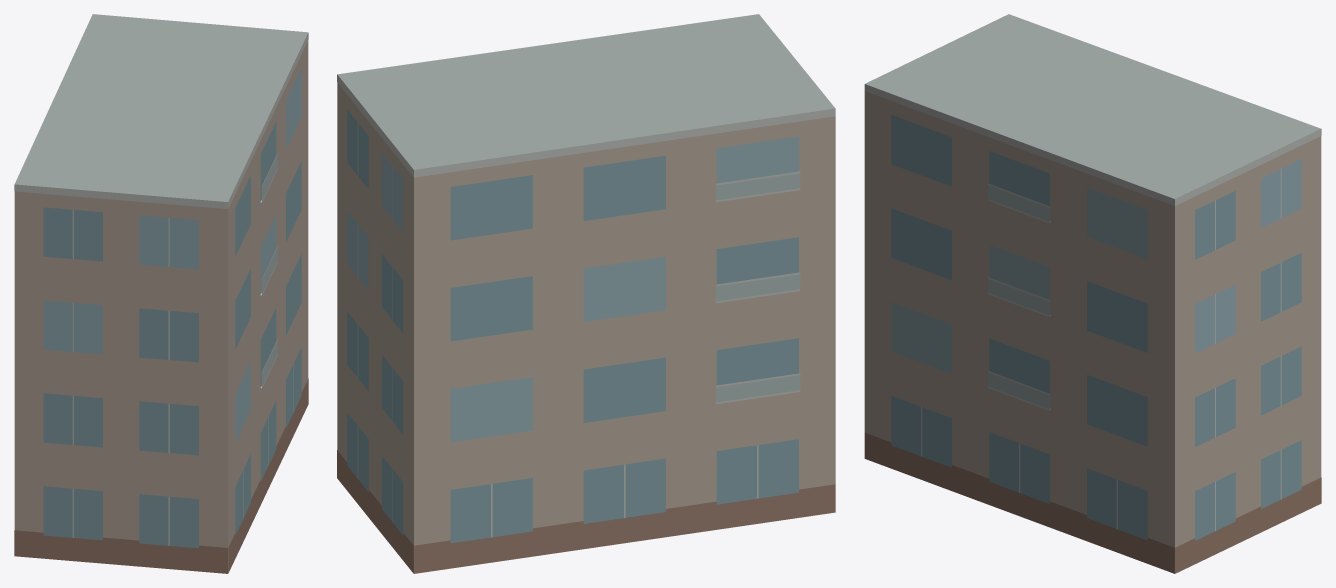
Rendered from survey-upis-32523859.glb.
3 views of the same model, side by side, from view 1: azimuth 30°, elevation 25°; view 2: azimuth 150°, elevation 25°; view 3: azimuth 270°, elevation 25° (orthographic). The views are drawn at different scales.
Parts seen in each view (by area): view 1: survey-upis-32523859.tmp; view 2: survey-upis-32523859.tmp; view 3: survey-upis-32523859.tmp.
Boxes of the visible parts, x1,y1,x2,y2 form: survey-upis-32523859.tmp: (14, 14, 308, 573); survey-upis-32523859.tmp: (337, 14, 835, 573); survey-upis-32523859.tmp: (864, 14, 1321, 573).
Size of the model in its own units: 13.68 by 12.9 by 14.26.
